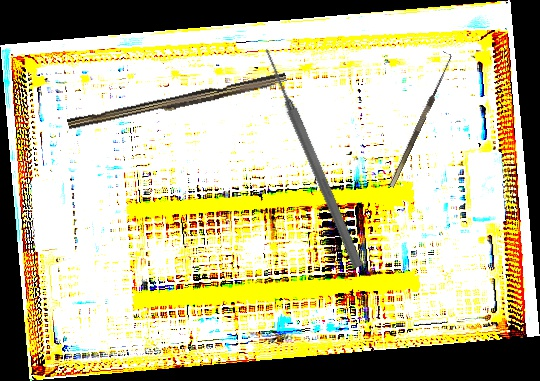Hook Surgical: (381, 51, 456, 188)
Pusher: (259, 45, 366, 270)
Scalpel Handle: (66, 69, 289, 136)
